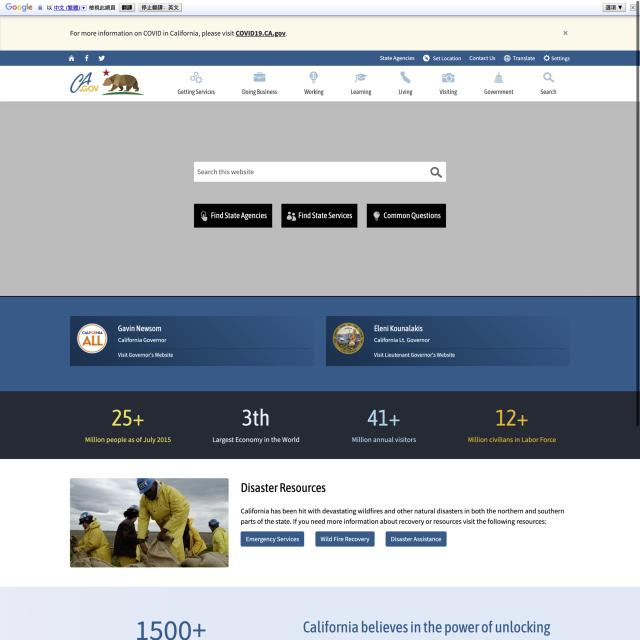input: (195, 160, 448, 184)
logo: (68, 70, 146, 98)
navigation: (175, 69, 564, 98), (377, 53, 574, 66)
